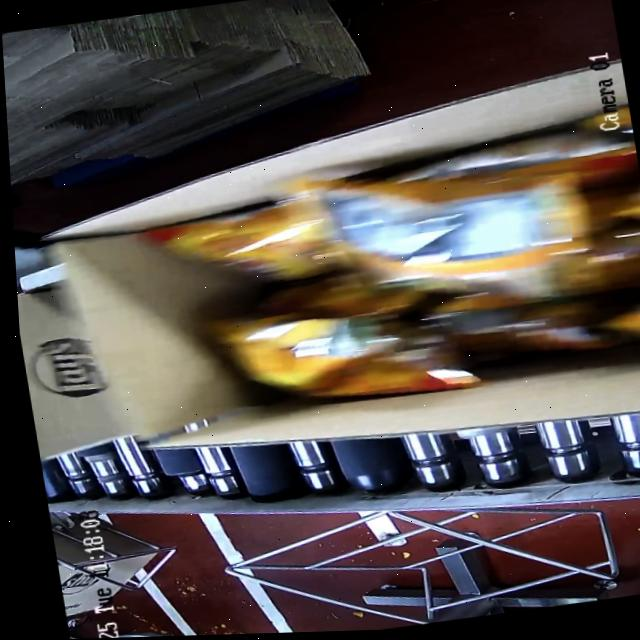FRENCH_CHEESE: (161, 97, 640, 428)
